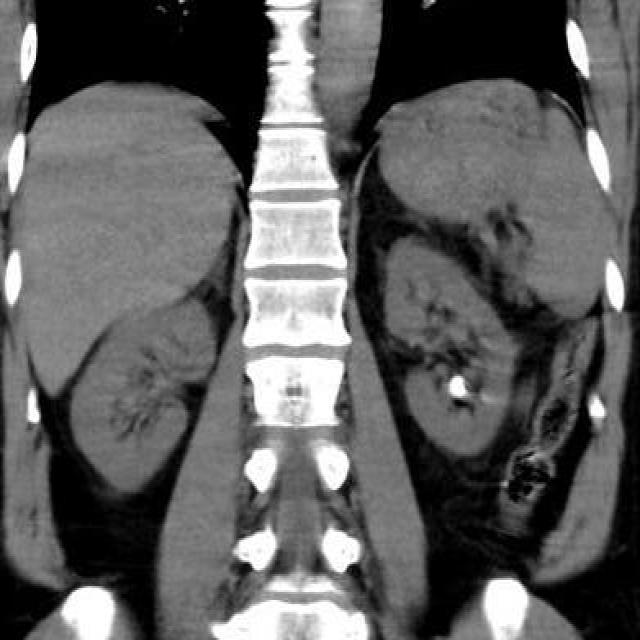Tas_Var: (448, 370, 470, 404)
